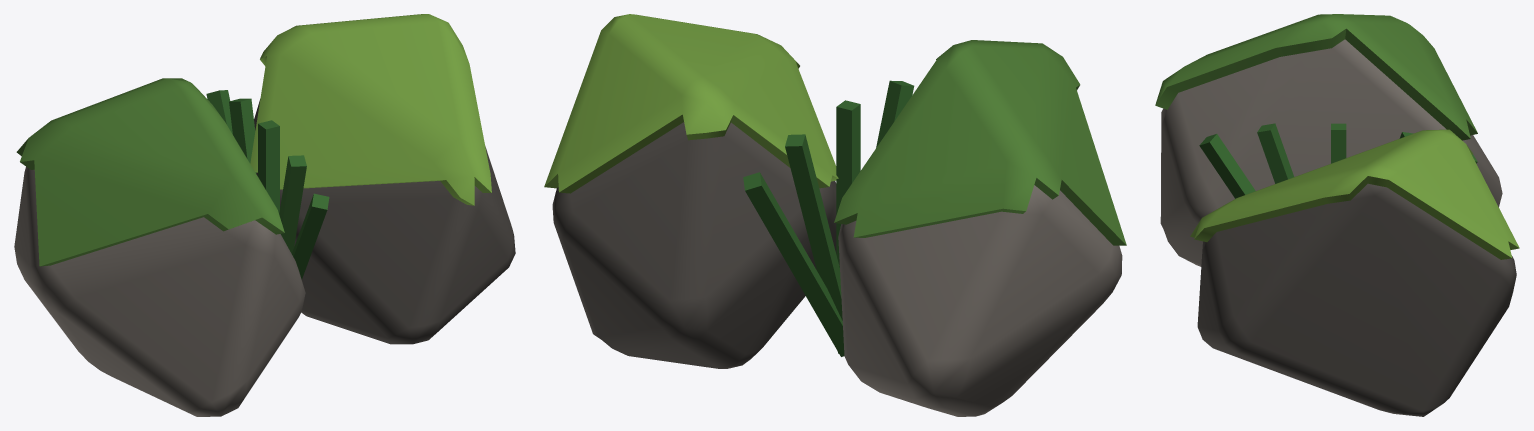
File: rocher_foret_2.glb
The picture shows the model from 3 angles, left to right: view 1: azimuth 30°, elevation 25°; view 2: azimuth 150°, elevation 25°; view 3: azimuth 270°, elevation 25°; orthographic projection. The views are drawn at different scales.
Visible parts, largest first — view 1: roche_pierre.012, mousse_mousse_claire.002, mousse_mousse.006, roche_pierre_sombre.010, fougere_feuille_sombre.002; view 2: roche_pierre_sombre.010, roche_pierre.012, mousse_mousse.006, mousse_mousse_claire.002, fougere_feuille_sombre.002; view 3: roche_pierre_sombre.010, roche_pierre.012, mousse_mousse_claire.002, mousse_mousse.006, fougere_feuille_sombre.002.
Boxes of the visible parts, x1,y1,x2,y2 form: roche_pierre.012: (14,166,305,416); mousse_mousse_claire.002: (250,14,491,205); mousse_mousse.006: (16,78,284,266); roche_pierre_sombre.010: (254,99,515,344); fougere_feuille_sombre.002: (206,90,329,279); roche_pierre_sombre.010: (552,122,836,368); roche_pierre.012: (838,185,1122,416); mousse_mousse.006: (834,40,1126,245); mousse_mousse_claire.002: (544,14,838,193); fougere_feuille_sombre.002: (743,80,914,356); roche_pierre_sombre.010: (1197,183,1516,416); roche_pierre.012: (1160,39,1502,266); mousse_mousse_claire.002: (1190,129,1519,259); mousse_mousse.006: (1155,14,1477,140); fougere_feuille_sombre.002: (1199,123,1477,198).
Size of the model in its own units: 0.7907 by 0.517 by 0.6021.
